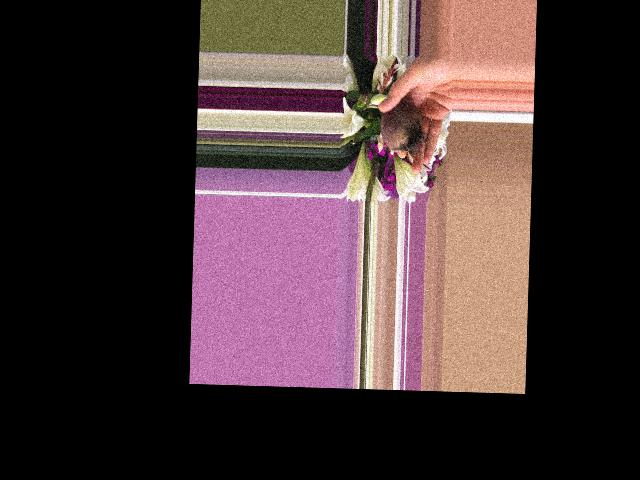beet: (359, 97, 424, 154)
